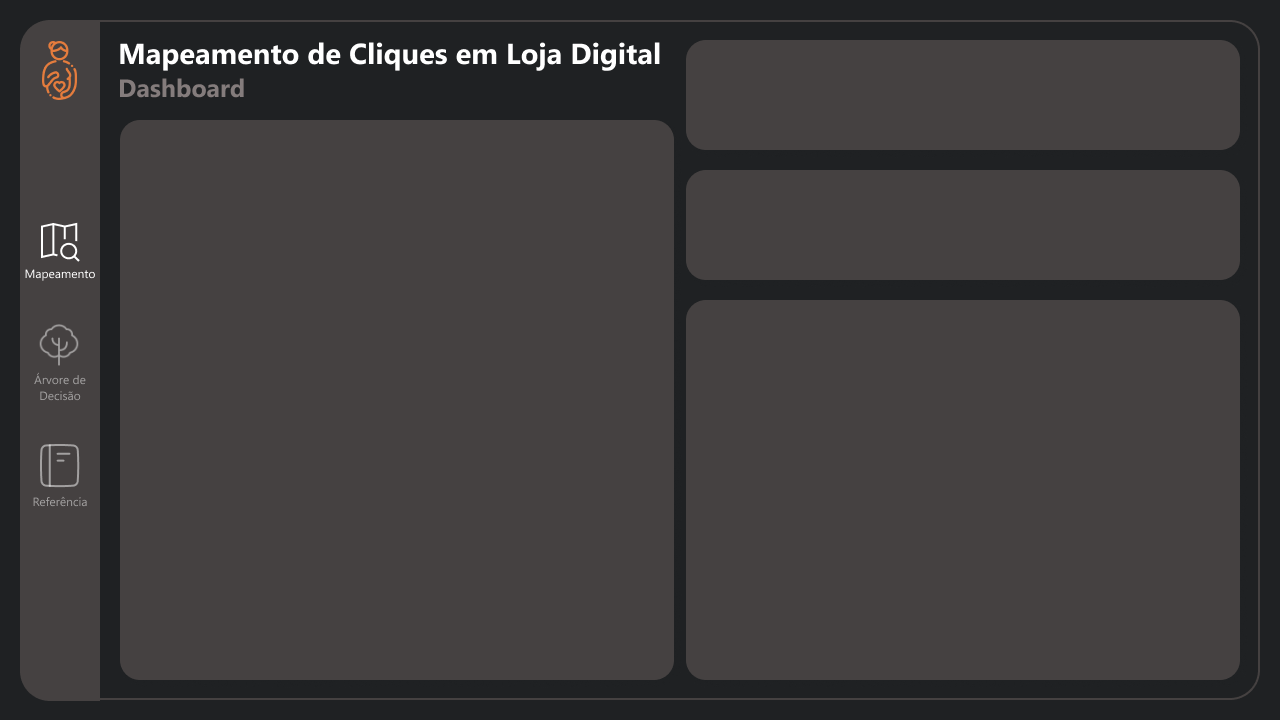

This screenshot's page, from the dashboard's own definition file:
{"tool":"powerbi","page":{"name":"Mapeamento","canvas":[1280,720],"ordinal":1},"visuals":[{"type":"textbox","box":[864.3,171.4,198.6,22.9],"z":0},{"type":"card","fields":{"Values":["Min(Cliques_Destaques.CP_Maiscula)"]},"box":[687.4,194.2,184.3,79.4],"z":1000},{"type":"slicer","fields":{"Values":["Cliques_Paises_Totais (2).País"]},"box":[691.7,55.3,276.4,76.5],"z":2000},{"type":"card","fields":{"Values":["Min(Cliques_Destaques.FP_Maiscula)"]},"box":[871.7,194.2,184.3,79.4],"z":3000},{"type":"card","fields":{"Values":["Min(Cliques_Destaques.PM_Maiscula)"]},"box":[1055.9,194.2,185.7,79.4],"z":4000},{"type":"card","fields":{"Values":["Sum(Cliques_Paises_Totais (2).Quantidade)"]},"box":[964.3,38.6,275.7,110],"z":5000},{"type":"synopticPanelByOKVIZC365478550CD4DC0A2ED985DC3E23EED","fields":{"category_role":["Cliques_paises_localizacao.Localizacao2"],"tooltips_role":["Sum(Cliques_paises_localizacao.Página 1)","Sum(Cliques_paises_localizacao.Página 2)","Sum(Cliques_paises_localizacao.Página 3)","Sum(Cliques_paises_localizacao.Página 4)","Sum(Cliques_paises_localizacao.Página 5)"],"value_role":["Cliques_paises_localizacao.Total"]},"box":[681.7,293.3,572.5,390.8],"z":6000},{"type":"actionButton","box":[0,0,100,40],"z":7000},{"type":"azureMap","title":"Produto em destaque por País","fields":{"Category":["Produto_destacado_paises (2).País"]},"box":[120,119.1,554,560],"z":8000},{"type":"actionButton","box":[18.5,314.6,81.5,92.3],"z":9000},{"type":"actionButton","box":[18.5,436.2,81.5,79.2],"z":10000},{"type":"actionButton","box":[18.4,35.4,82.2,72.3],"z":11000}]}

Visuals, with their boxes on the page's 1280x720 design canvas (x1, y1, x2, y2). These are canvas units, not pixel positions in the 1280x720 screenshot, which may show the page scaled, cropped or inside an application window:
textbox: box=[864, 171, 1063, 194]
card - Min(Cliques_Destaques.CP_Maiscula): box=[687, 194, 872, 274]
slicer - Cliques_Paises_Totais (2).País: box=[692, 55, 968, 132]
card - Min(Cliques_Destaques.FP_Maiscula): box=[872, 194, 1056, 274]
card - Min(Cliques_Destaques.PM_Maiscula): box=[1056, 194, 1242, 274]
card - Sum(Cliques_Paises_Totais (2).Quantidade): box=[964, 39, 1240, 149]
synopticPanelByOKVIZC365478550CD4DC0A2ED985DC3E23EED - Cliques_paises_localizacao.Localizacao2 x Sum(Cliques_paises_localizacao.Página 1): box=[682, 293, 1254, 684]
actionButton: box=[0, 0, 100, 40]
"Produto em destaque por País" azureMap: box=[120, 119, 674, 679]
actionButton: box=[18, 315, 100, 407]
actionButton: box=[18, 436, 100, 515]
actionButton: box=[18, 35, 101, 108]
